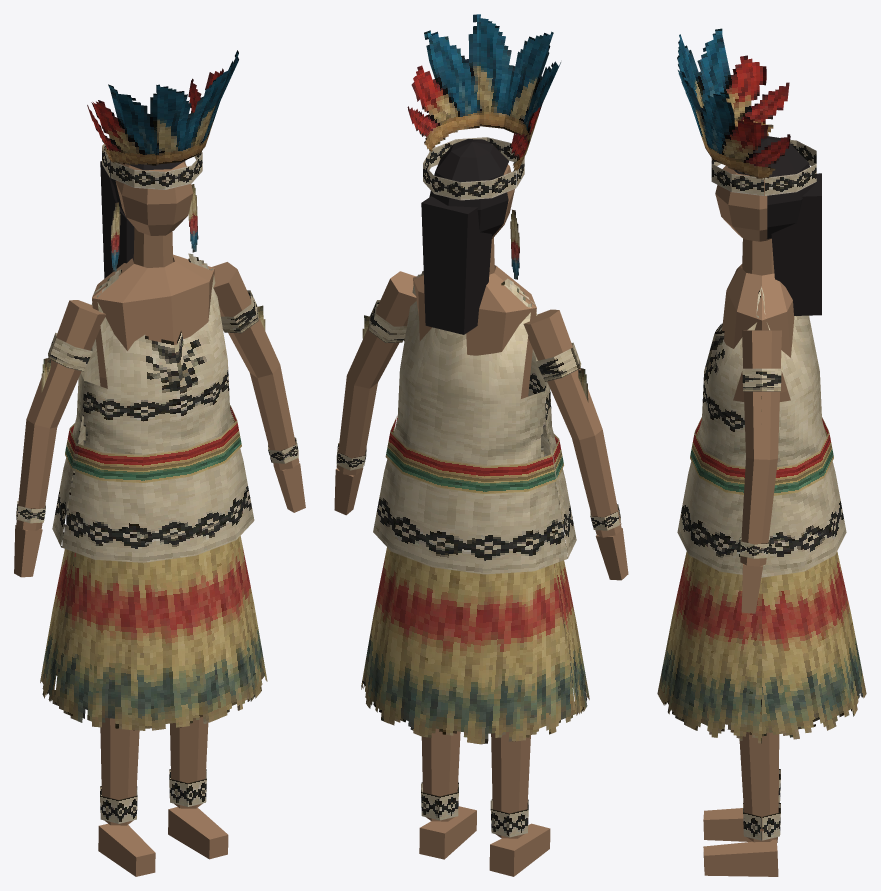
Rendered from huitoto_ps1.glb.
3 views of the same model, side by side, from view 1: azimuth 30°, elevation 25°; view 2: azimuth 150°, elevation 25°; view 3: azimuth 270°, elevation 25° (orthographic).
Parts seen in each view (by area): view 1: Cuerpo_base, Falda, Vestido, Corona_plumas, Accesorios, Cinturon; view 2: Cuerpo_base, Falda, Vestido, Corona_plumas, Accesorios, Cinturon; view 3: Falda, Cuerpo_base, Vestido, Corona_plumas, Cinturon, Accesorios.
Part boxes in pixels (bbox=[...]): Cuerpo_base: bbox=[14, 160, 305, 876]; Falda: bbox=[40, 440, 267, 730]; Vestido: bbox=[52, 253, 254, 562]; Corona_plumas: bbox=[87, 50, 238, 189]; Accesorios: bbox=[16, 184, 298, 823]; Cinturon: bbox=[65, 405, 241, 482]; Cuerpo_base: bbox=[334, 139, 628, 876]; Falda: bbox=[361, 451, 589, 744]; Vestido: bbox=[373, 271, 576, 574]; Corona_plumas: bbox=[407, 14, 560, 200]; Accesorios: bbox=[336, 209, 621, 837]; Cinturon: bbox=[385, 416, 563, 493]; Falda: bbox=[657, 551, 866, 743]; Cuerpo_base: bbox=[703, 136, 821, 876]; Vestido: bbox=[677, 286, 846, 577]; Corona_plumas: bbox=[677, 28, 816, 195]; Cinturon: bbox=[690, 417, 833, 495]; Accesorios: bbox=[740, 368, 781, 840].
Size of the model in its own units: 0.7411 by 1.99 by 0.47.
Materials: 3 (1 with a texture image).
